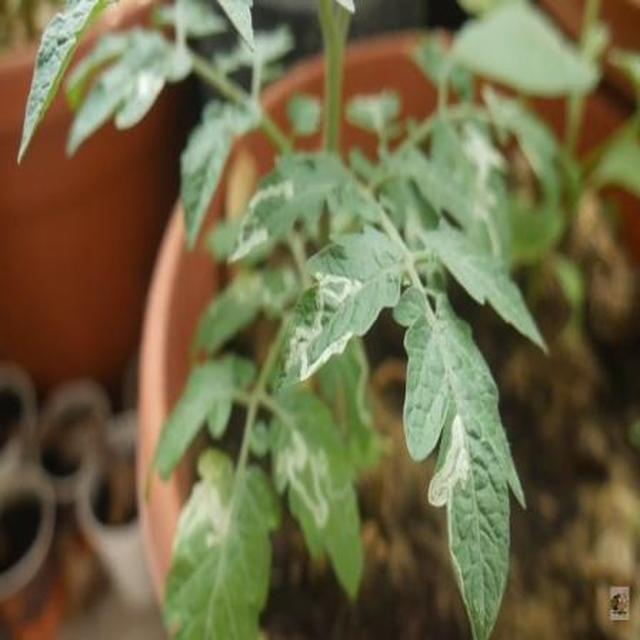Leaf Miner: (185, 245, 640, 640)
